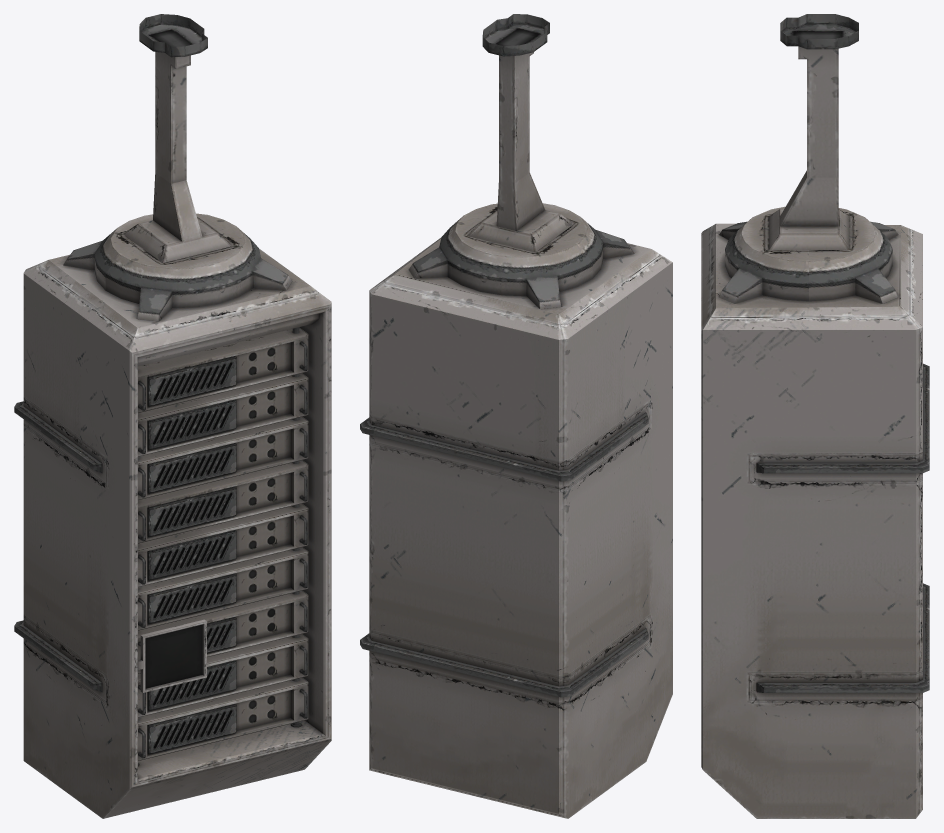
Rendered from server_theta_hanging01.dae.
The picture shows the model from 3 angles, left to right: view 1: azimuth 30°, elevation 25°; view 2: azimuth 150°, elevation 25°; view 3: azimuth 270°, elevation 25°; orthographic projection.
Parts seen in each view (by area): view 1: server_hanging; view 2: server_hanging; view 3: server_hanging.
Boxes of the visible parts, box(x1,y1,x2,y2) form: server_hanging: box(14, 14, 331, 818); server_hanging: box(360, 14, 672, 818); server_hanging: box(701, 14, 929, 818).
Bounding box in the file's own units: 1.7 × 5.64 × 1.57.
